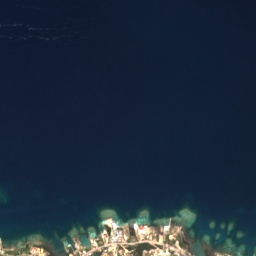Marine Debris: (39, 32, 78, 42), (0, 23, 48, 31)
